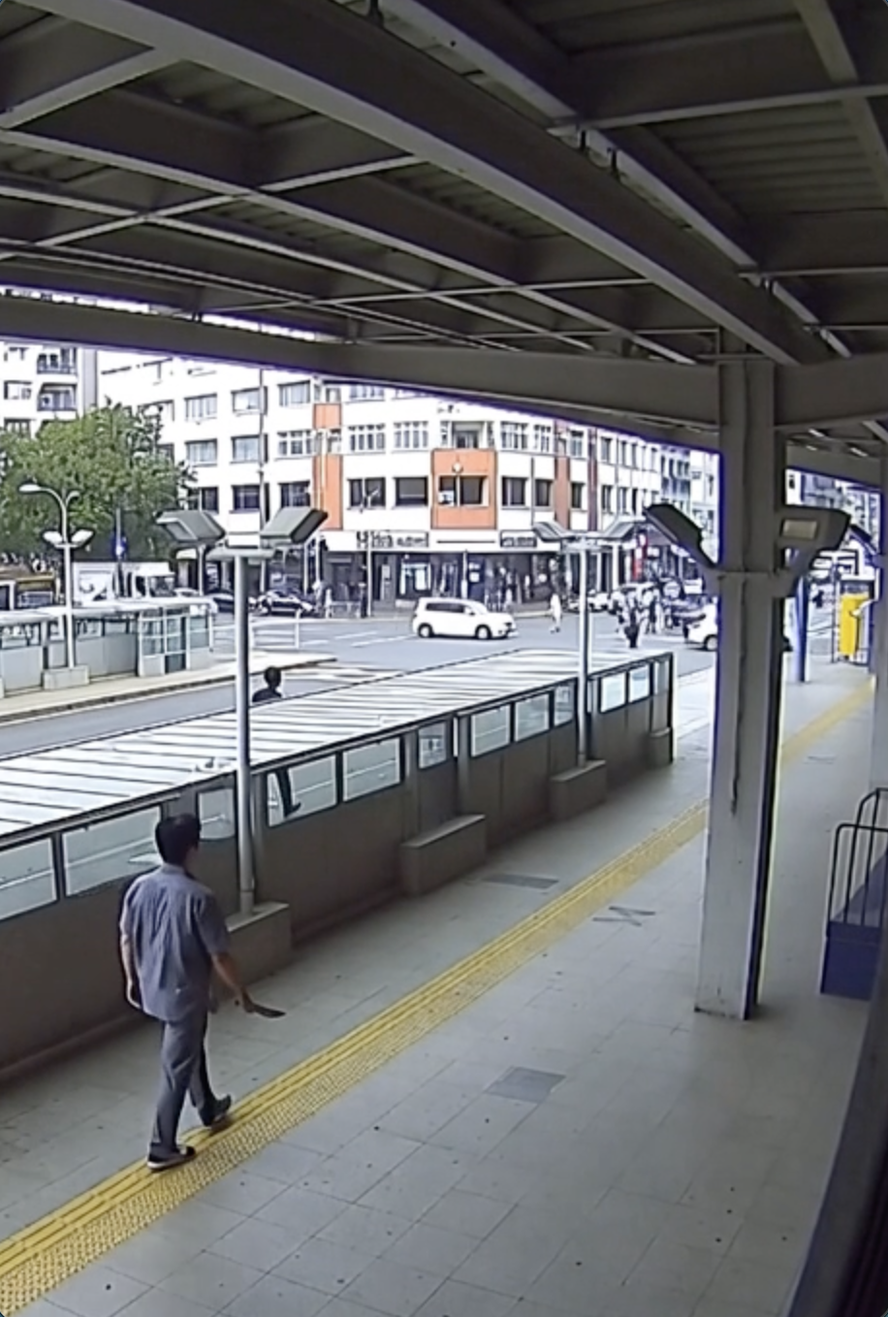Heavy Gun: (110, 802, 258, 1183)
Knife: (225, 986, 291, 1024)
